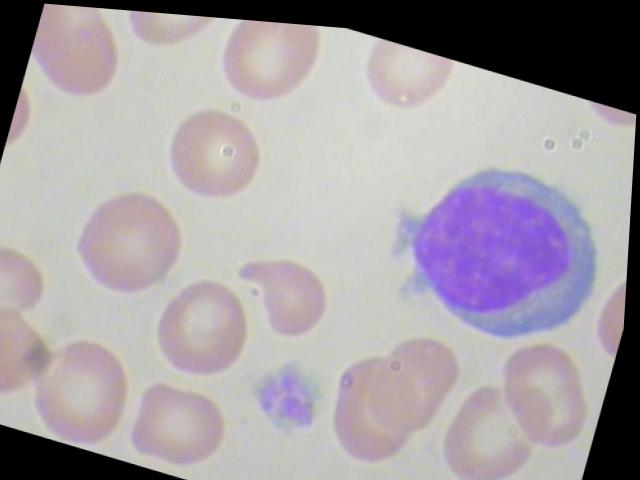Red Blood Cells: (60, 163, 207, 312), (15, 322, 153, 458), (141, 257, 274, 393), (148, 90, 283, 212), (315, 340, 434, 472), (490, 324, 608, 456), (221, 238, 348, 359), (200, 13, 336, 119), (124, 366, 251, 479), (433, 362, 552, 479), (22, 2, 141, 111), (339, 26, 467, 127)
White Blood Cells: (365, 114, 635, 359)
